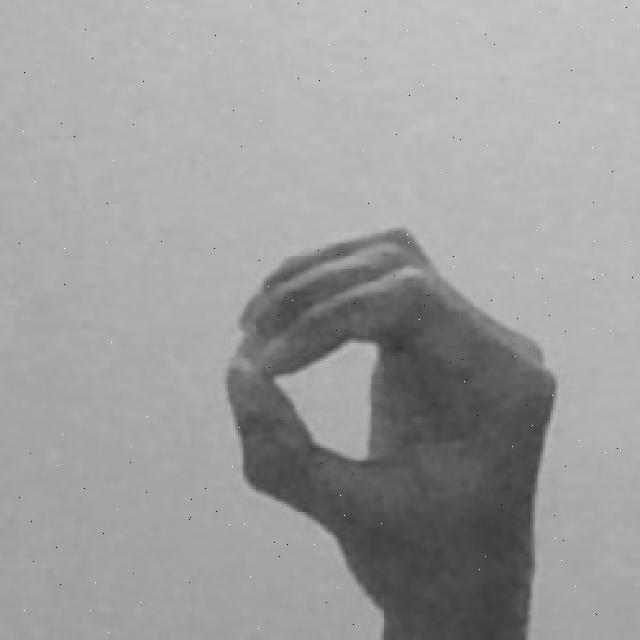O: (212, 220, 560, 640)
